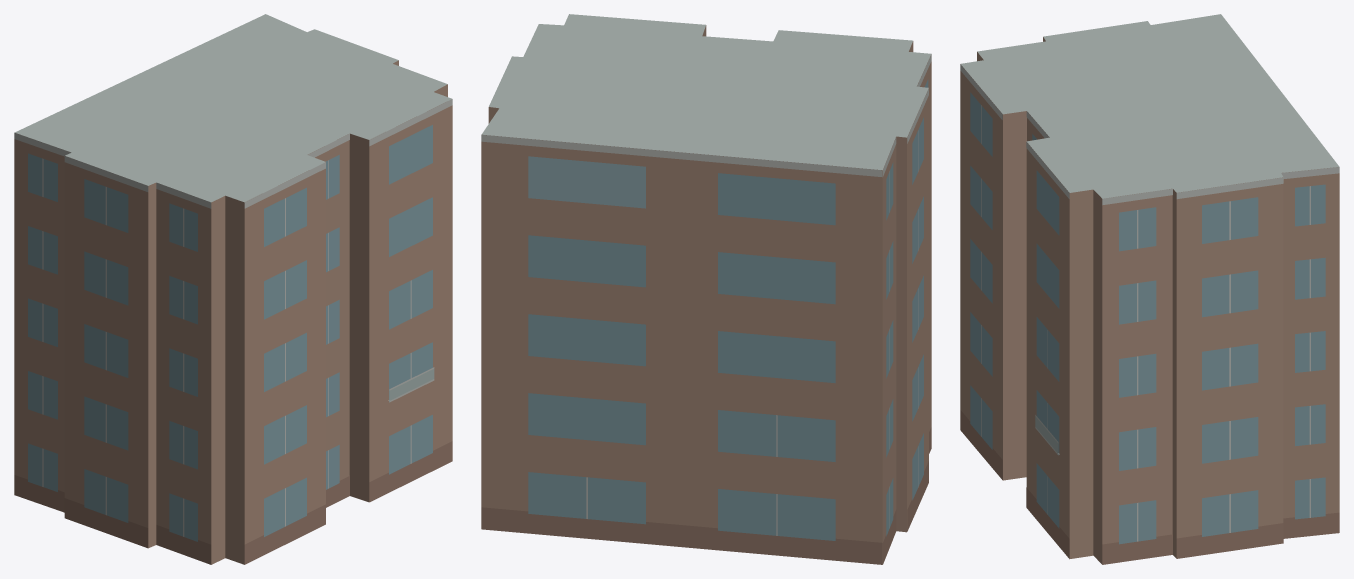
Rendered from survey-upis-32930674.glb.
The picture shows the model from 3 angles, left to right: view 1: azimuth 30°, elevation 25°; view 2: azimuth 150°, elevation 25°; view 3: azimuth 270°, elevation 25°; orthographic projection. The views are drawn at different scales.
Visible parts, largest first — view 1: survey-upis-32930674.tmp; view 2: survey-upis-32930674.tmp; view 3: survey-upis-32930674.tmp.
Part boxes in pixels (left/top/right/bottom): survey-upis-32930674.tmp: left=14, top=14, right=452, bottom=564; survey-upis-32930674.tmp: left=481, top=14, right=931, bottom=564; survey-upis-32930674.tmp: left=960, top=14, right=1339, bottom=564.
Size of the model in its own units: 14.83 by 13.7 by 12.87.
